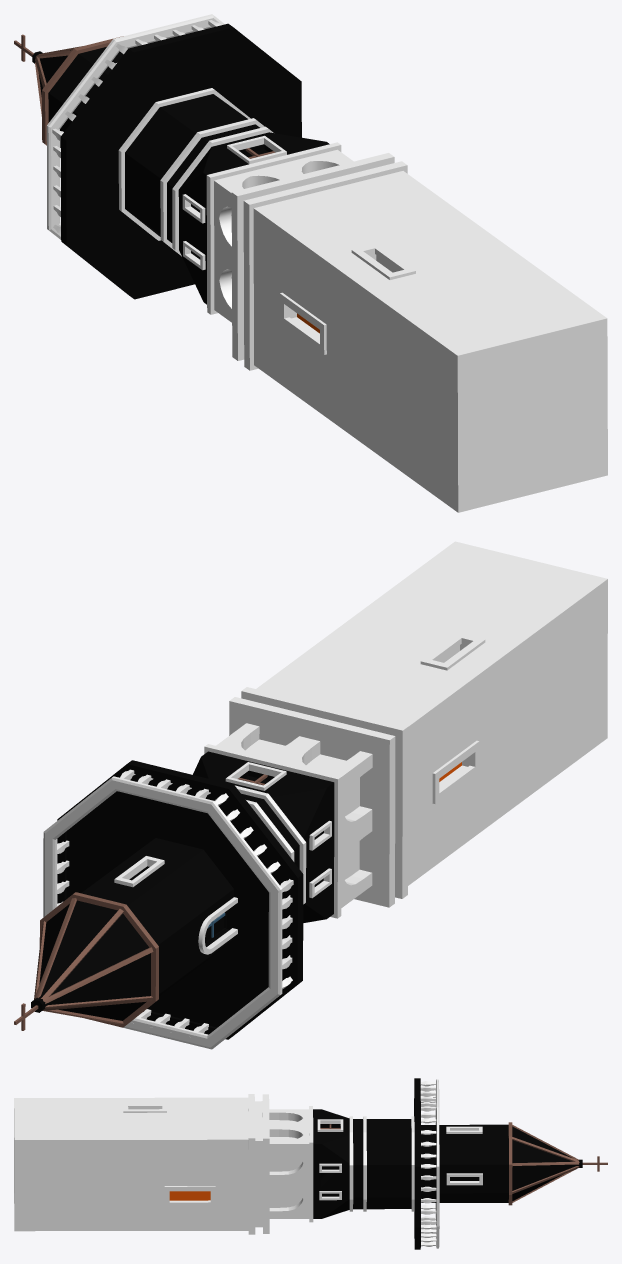
File: city_tower_a.FBX
The picture shows the model from 3 angles, top to bottom: view 1: azimuth 30°, elevation 25°; view 2: azimuth 150°, elevation 25°; view 3: azimuth 270°, elevation 25°; orthographic projection. The views are drawn at different scales.
Visible parts, largest first — view 1: city_tower_a; view 2: city_tower_a; view 3: city_tower_a.
Part boxes in pixels (x1,y1,x2,y2): city_tower_a: [14, 14, 607, 512]; city_tower_a: [14, 541, 607, 1049]; city_tower_a: [14, 1078, 607, 1249].
Bounding box in the file's own units: 788 × 788 × 2961.
